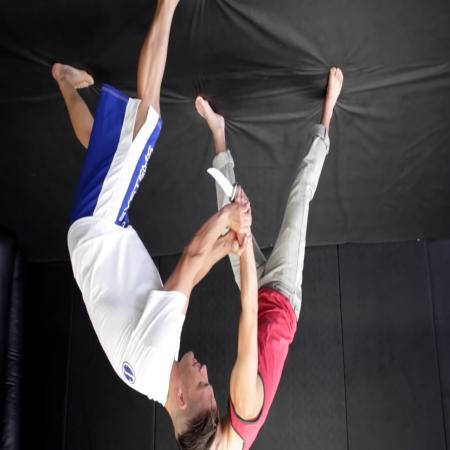long weapon: (204, 162, 252, 210)
